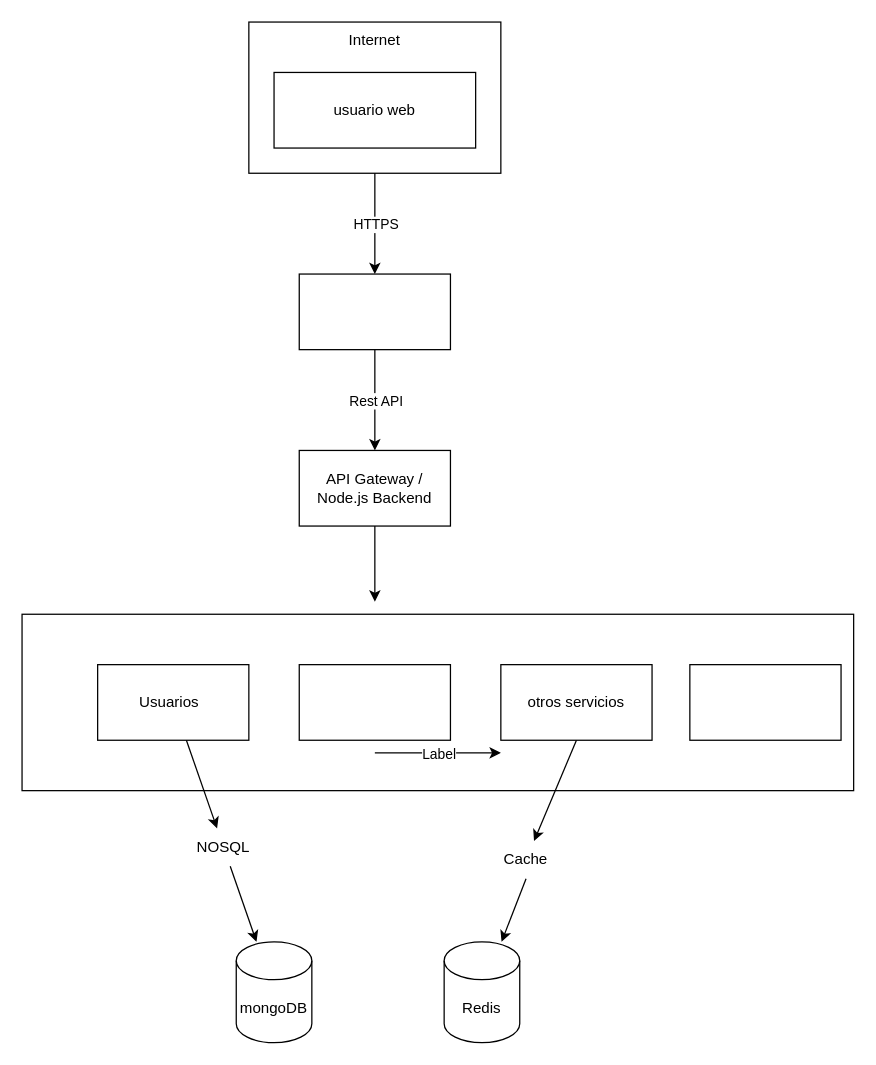
Some shapes in this 876 by 1065 pixel diagram are drawn without their labels. The shapes that lost their labels are listed below. From the top down, each one's box as (x1, y1, x2, y2) in pixels, then its label:
(298, 273, 450, 350): Fronted React / vue
(298, 663, 450, 740): Publicaciones
(689, 663, 841, 740): aplicación web
